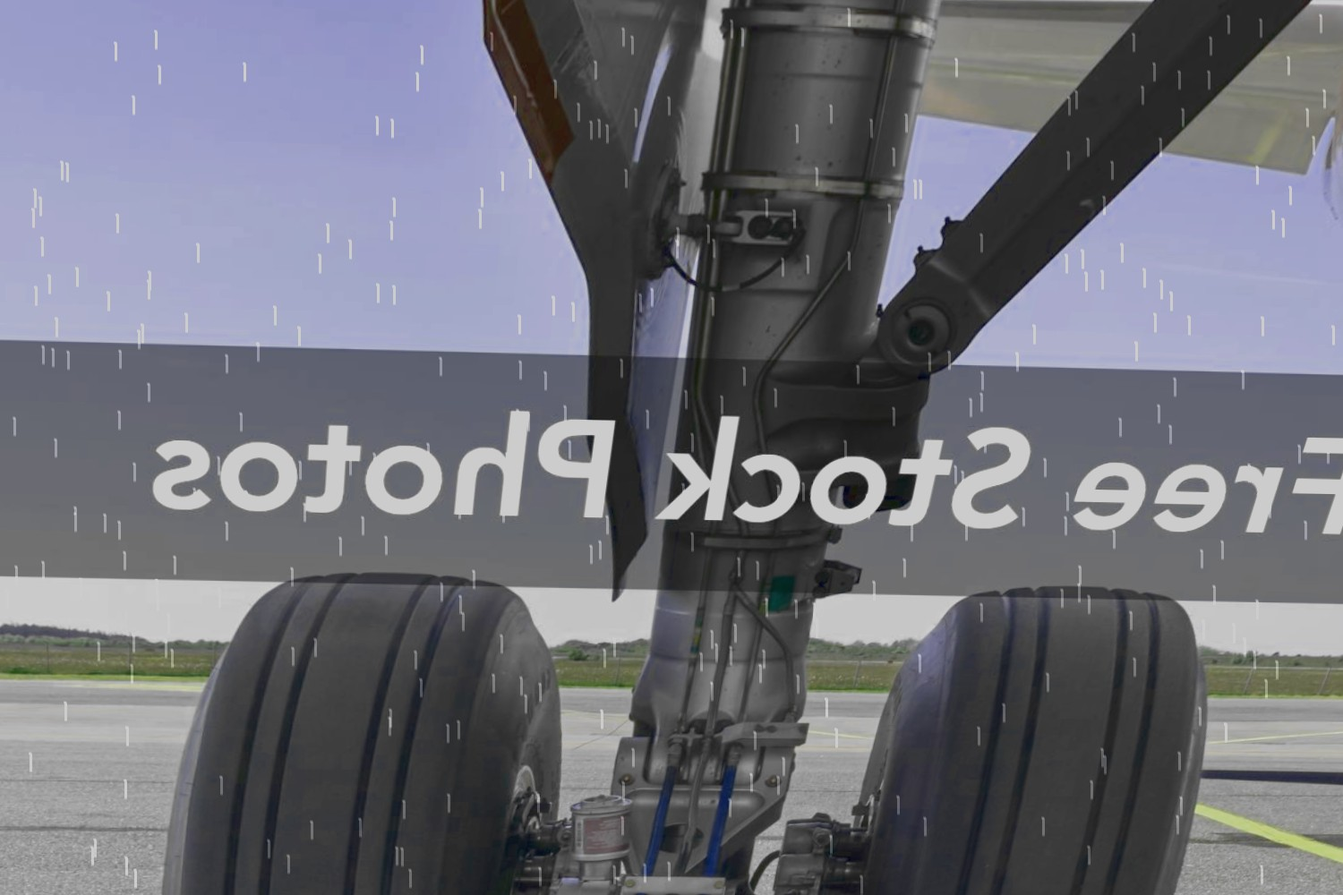wheel: (828, 584, 1280, 895), (160, 569, 581, 895)
